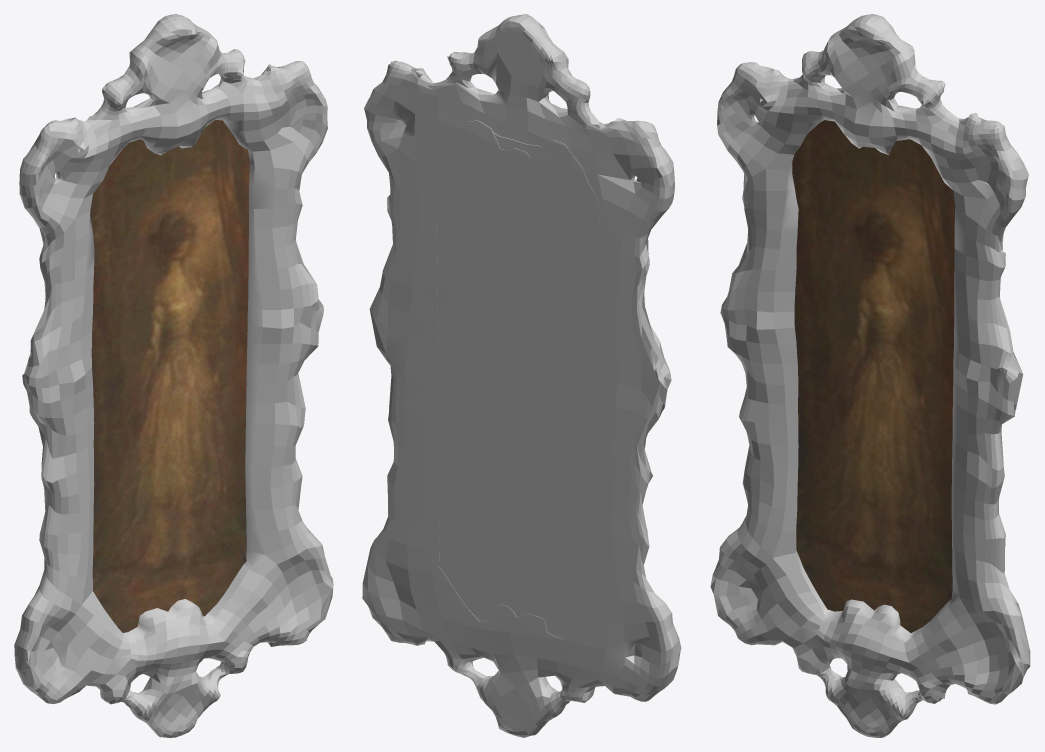
The model's file is FramePainting_Lady.fbx.
3 views of the same model, side by side, from view 1: azimuth 30°, elevation 25°; view 2: azimuth 150°, elevation 25°; view 3: azimuth 330°, elevation 25° (orthographic).
Visible parts, largest first — view 1: FramePainting_Lady; view 2: FramePainting_Lady; view 3: FramePainting_Lady.
Part boxes in pixels (<box>): FramePainting_Lady: <box>14,14,333,737</box>; FramePainting_Lady: <box>362,14,681,737</box>; FramePainting_Lady: <box>710,14,1030,737</box>.
Size of the model in its own units: 0.4476 by 0.9896 by 0.045.
